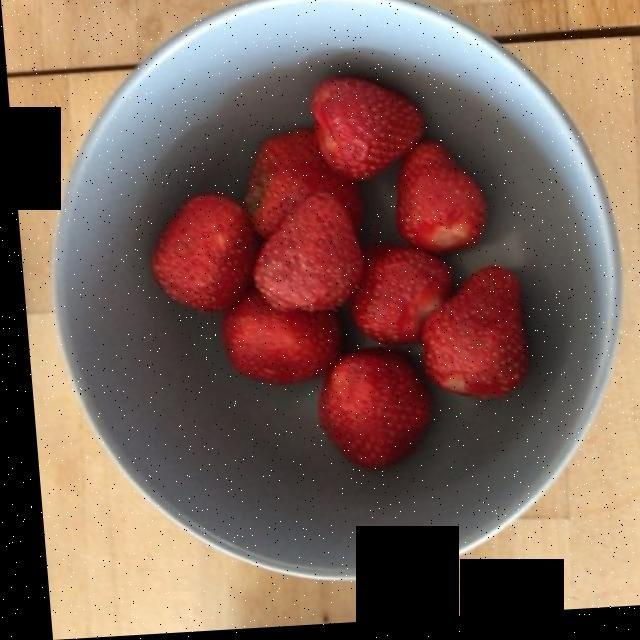strawberries: (154, 87, 516, 470)
